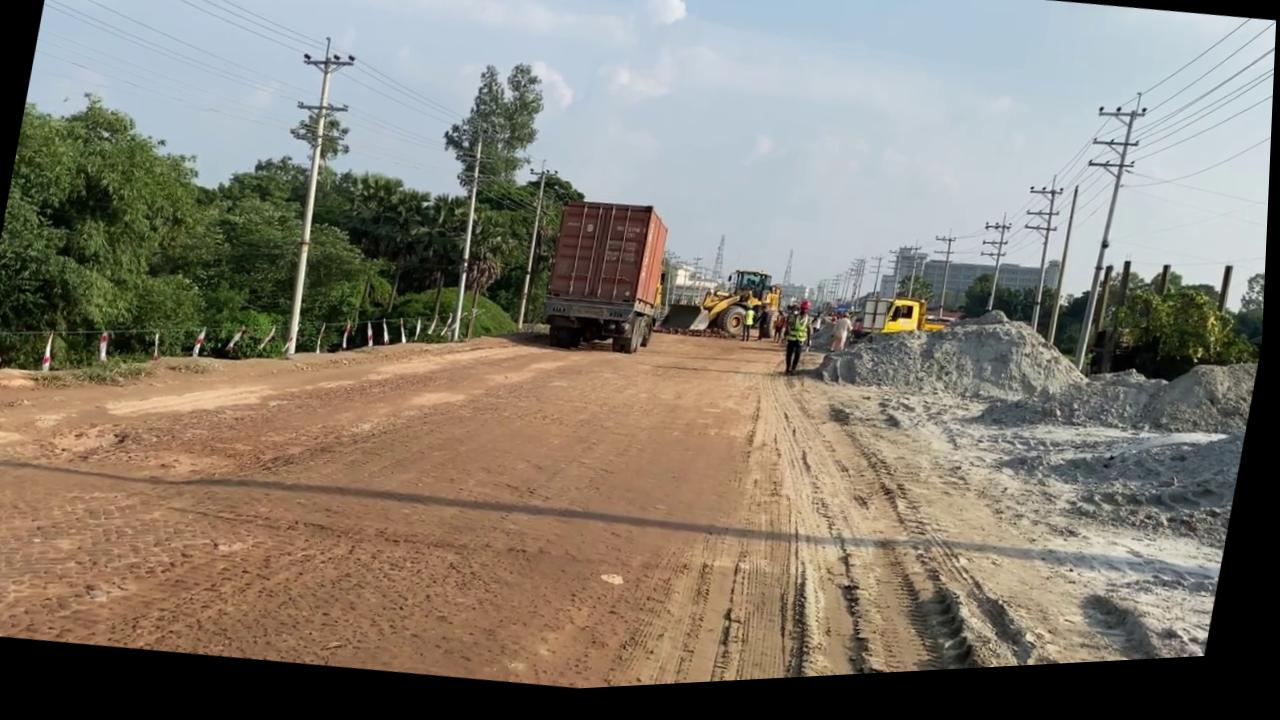Light-pole: (250, 35, 360, 363)
Obstacle: (536, 197, 679, 368), (658, 306, 715, 345)
Pole: (442, 136, 498, 346)
Traffic-sign: (0, 78, 228, 391), (409, 56, 554, 354)
Tree: (655, 264, 791, 356), (849, 297, 957, 364), (652, 273, 677, 339)
